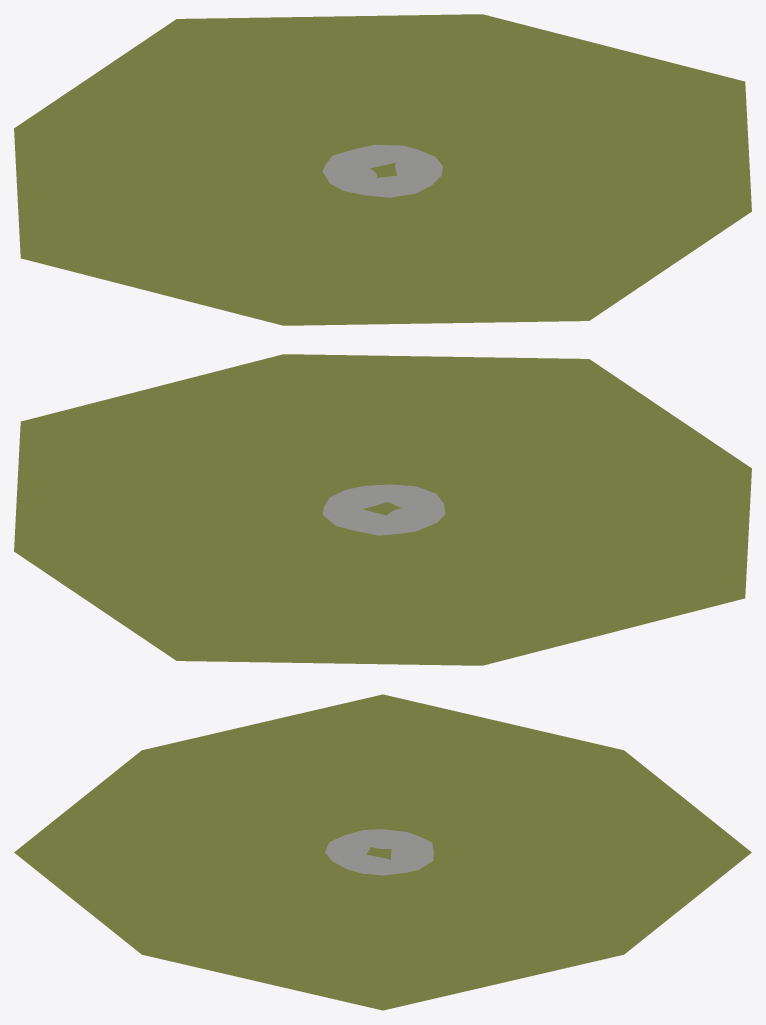
The model's file is Mexico_track_field.dae.
3 renders of one model, top to bottom at view 1: azimuth 30°, elevation 25°; view 2: azimuth 150°, elevation 25°; view 3: azimuth 270°, elevation 25°, orthographic. The views are drawn at different scales.
Visible parts, largest first — view 1: field; view 2: field; view 3: field.
Boxes of the visible parts, bbox=[...] form: field: bbox=[14, 14, 751, 325]; field: bbox=[14, 354, 751, 665]; field: bbox=[14, 694, 751, 1010].
Size of the model in its own units: 597 by 589 by 1.61e-05.
2 materials, 2 textured.
